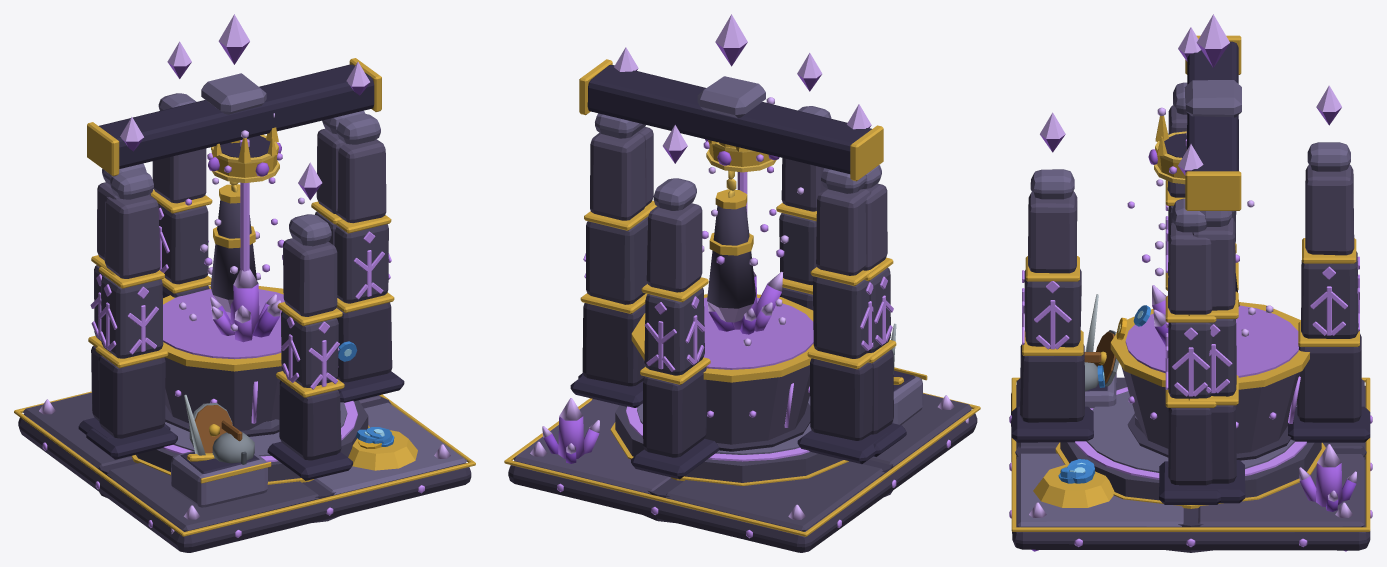
Rendered from eveil-concasseur.glb.
The picture shows the model from 3 angles, left to right: view 1: azimuth 30°, elevation 25°; view 2: azimuth 150°, elevation 25°; view 3: azimuth 270°, elevation 25°; orthographic projection. The views are drawn at different scales.
Parts seen in each view (by area): view 1: poutre, socle.002, mortier, pave.010, pilier.009, lueur.344, pilier.011, pave.011, pilier, pilier.002, pilier.008, pilier.010 (+38 smaller); view 2: poutre, socle.002, pave.008, mortier, lueur.344, pave.009, pilier.003, pilier.012, pilier.016, pilier.017, pilier.005, pilier.015 (+39 smaller); view 3: socle.002, pave.009, mortier, pave.011, lueur.344, pilier.003, pilier, pilier.005, poutre, pilier.002, pilier.004, pilier.008 (+39 smaller).
Boxes of the visible parts, x1,y1,x2,y2 form: poutre: (99, 64, 374, 168); socle.002: (18, 414, 471, 552); mortier: (164, 357, 282, 430); pave.010: (107, 463, 319, 531); pilier.009: (98, 355, 165, 438); lueur.344: (163, 289, 284, 359); pilier.011: (104, 195, 160, 278); pave.011: (314, 402, 466, 495); pilier: (279, 380, 341, 460); pilier.002: (283, 238, 337, 316); pilier.008: (336, 139, 386, 223); pilier.010: (101, 275, 163, 358); poutre: (587, 65, 871, 173); socle.002: (508, 410, 977, 552); pave.008: (665, 461, 884, 531); mortier: (642, 357, 809, 444); lueur.344: (704, 297, 813, 369); pave.009: (513, 399, 670, 493); pilier.003: (643, 367, 706, 457); pilier.012: (810, 358, 872, 440); pilier.016: (586, 217, 647, 304); pilier.017: (590, 132, 646, 220); pilier.005: (646, 203, 702, 292); pilier.015: (582, 303, 645, 386); socle.002: (1011, 385, 1370, 550); pave.009: (1198, 454, 1364, 527); mortier: (1121, 367, 1300, 453); pave.011: (1017, 453, 1183, 527); lueur.344: (1125, 305, 1298, 377); pilier.003: (1297, 334, 1361, 422); pilier: (1020, 344, 1084, 422); pilier.005: (1305, 165, 1354, 255); poutre: (1187, 41, 1238, 171); pilier.002: (1028, 191, 1077, 273); pilier.004: (1301, 251, 1358, 338); pilier.008: (1168, 223, 1212, 314).
Size of the model in its own units: 1.94 by 2.76 by 1.94.
